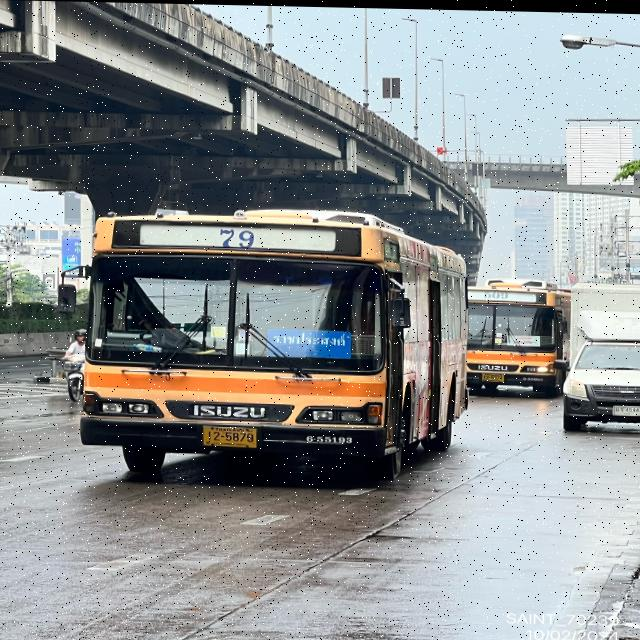BMTA-bus: (78, 210, 469, 481), (467, 279, 572, 394)
Bus Line Number: (206, 223, 266, 253), (481, 288, 509, 298)
Bus Side Number: (303, 430, 357, 444), (522, 372, 547, 380)
Destination Sign: (262, 326, 353, 356), (510, 332, 543, 346)
